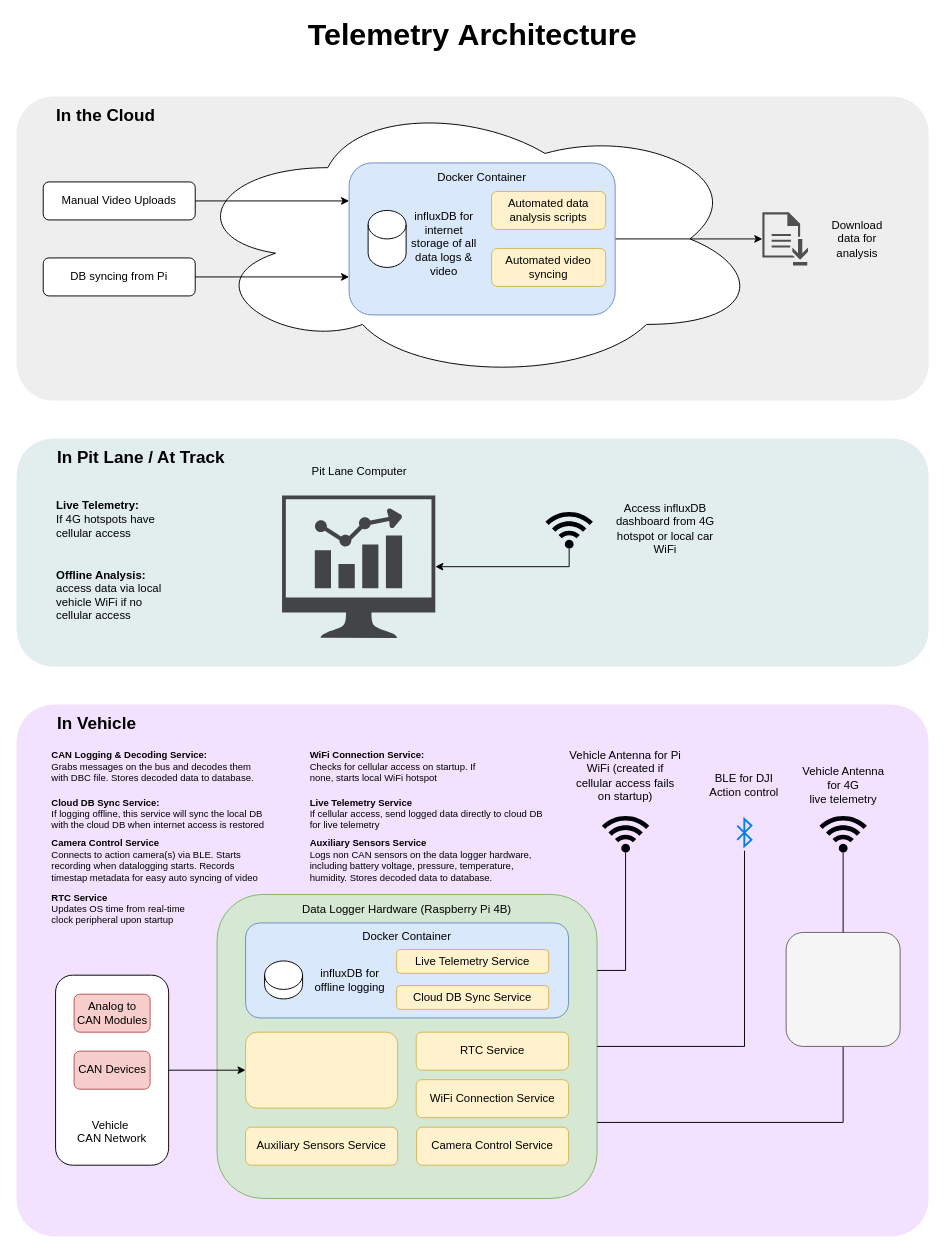
The diagram is 944 pixels wide and 1252 high, and some of its shapes have lost their labels. The shapes that lost their labels are listed below. From the top down, each one's centre as x and y in pixels, then its label:
At point (842, 988): "4G LTE Cellular Modem in vehicle".
At point (321, 1069): "CAN Logging & Decoding Service".
